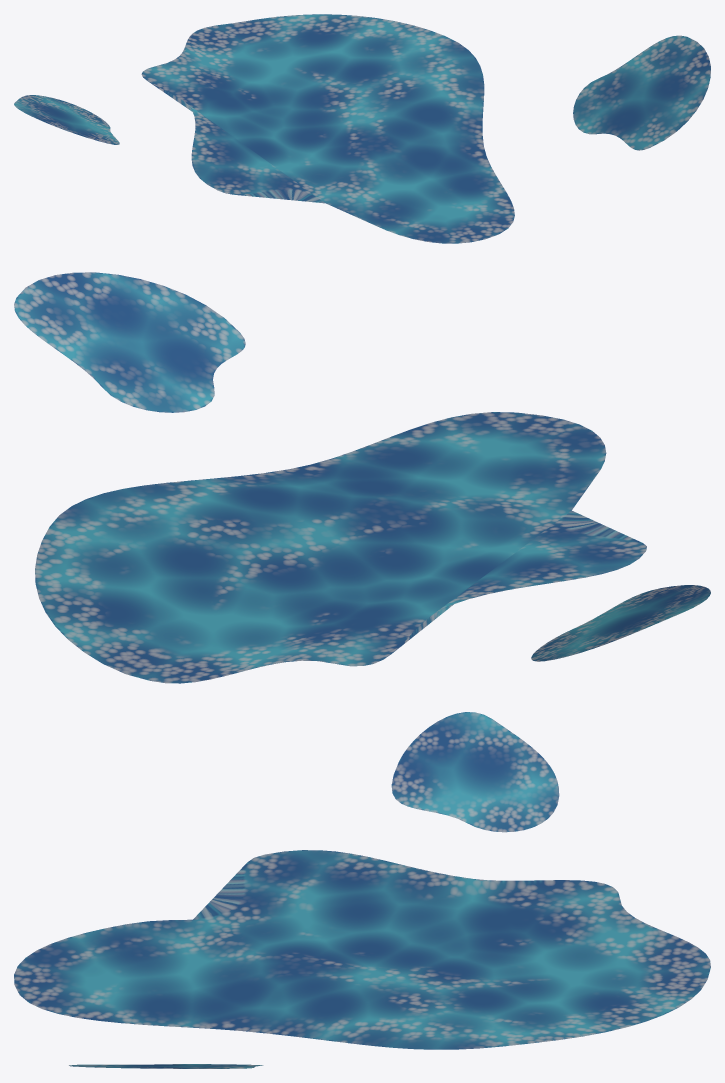
The model's file is MD_acqua.fbx.
The picture shows the model from 3 angles, top to bottom: view 1: azimuth 30°, elevation 25°; view 2: azimuth 150°, elevation 25°; view 3: azimuth 270°, elevation 25°; orthographic projection. The views are drawn at different scales.
Parts seen in each view (by area): view 1: BezierCircle; view 2: BezierCircle; view 3: BezierCircle.
Part boxes in pixels (x1=…): BezierCircle: x1=14, y1=14, x2=710, y2=243; BezierCircle: x1=14, y1=272, x2=710, y2=683; BezierCircle: x1=14, y1=712, x2=710, y2=1068.
Size of the model in its own units: 358 by 43.88 by 293.
